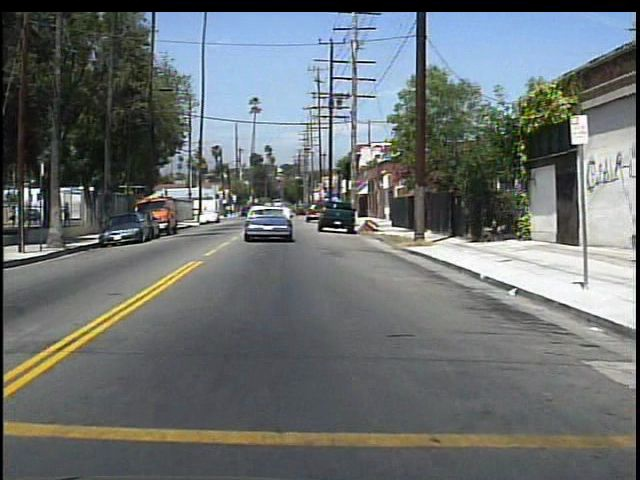person: (63, 199, 76, 225)
